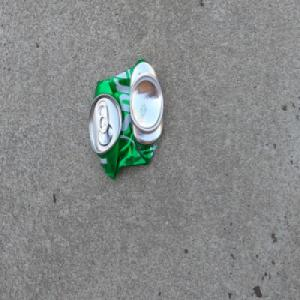SodaCan: (87, 56, 165, 182)
